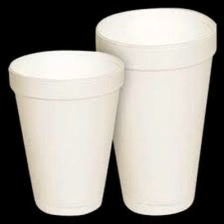paper_cup: (90, 2, 220, 220), (5, 45, 128, 219)
